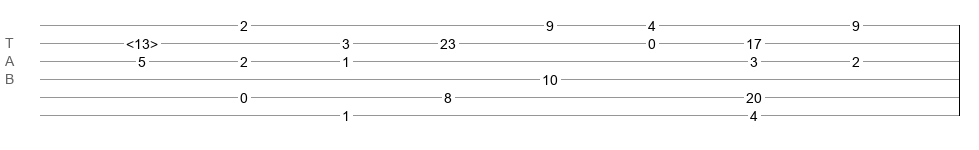0: (240, 90, 248, 100), (648, 36, 656, 46)
1: (342, 54, 350, 64), (342, 108, 350, 118)
10: (542, 72, 558, 82)
17: (746, 36, 762, 46)
2: (240, 18, 248, 28), (240, 54, 248, 64), (852, 54, 860, 64)
20: (746, 90, 762, 100)
23: (440, 36, 456, 46)
3: (342, 36, 350, 46), (750, 54, 758, 64)
4: (648, 18, 656, 28), (750, 108, 758, 118)
5: (138, 54, 146, 64)
8: (444, 90, 452, 100)
9: (546, 18, 554, 28), (852, 18, 860, 28)
harmonic: (126, 36, 158, 46)
